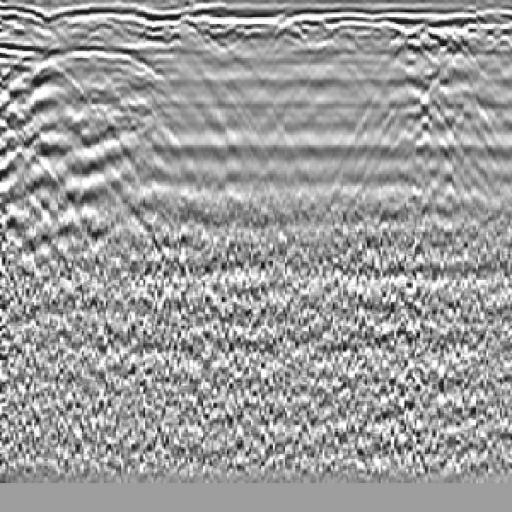non-metallic: (1, 31, 210, 238)
